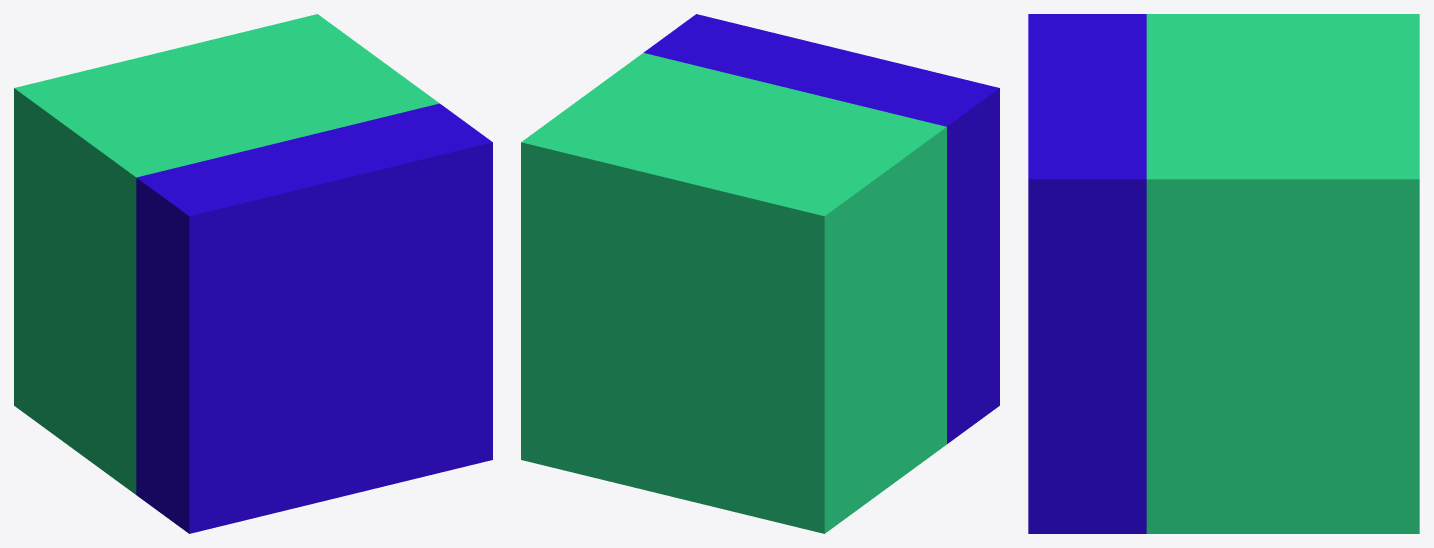
The model's file is PlayerCube.fbx.
3 renders of one model, left to right at view 1: azimuth 30°, elevation 25°; view 2: azimuth 150°, elevation 25°; view 3: azimuth 270°, elevation 25°, orthographic. The views are drawn at different scales.
Parts seen in each view (by area): view 1: Cube; view 2: Cube; view 3: Cube.
Boxes of the visible parts, bbox=[...] form: Cube: bbox=[14, 14, 492, 533]; Cube: bbox=[521, 14, 999, 533]; Cube: bbox=[1028, 14, 1419, 533].
Bounding box in the file's own units: 2000 × 2000 × 2000.
